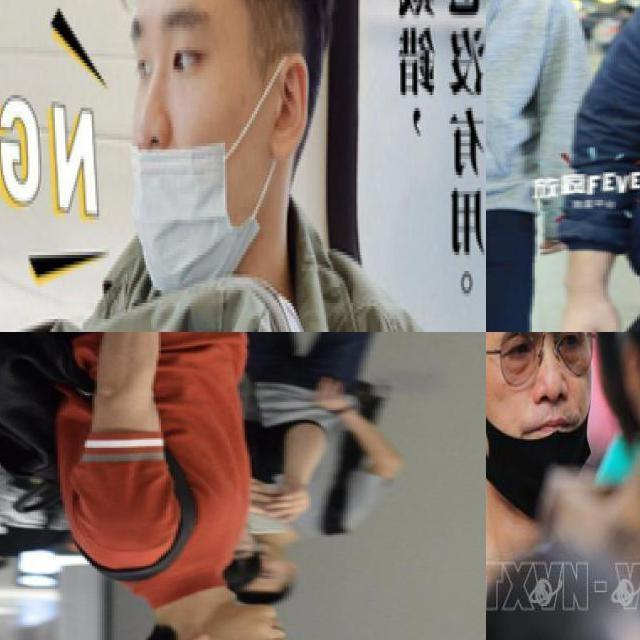hairnet: (129, 92, 245, 301), (494, 380, 594, 510)
